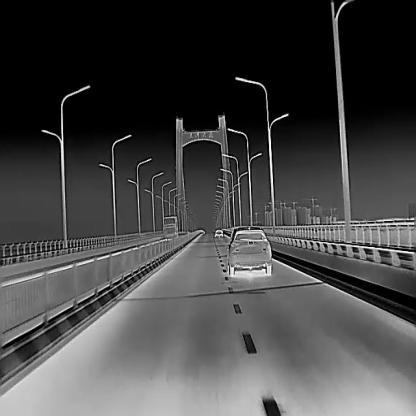car: (226, 225, 271, 275), (163, 215, 178, 239), (214, 229, 223, 237)
